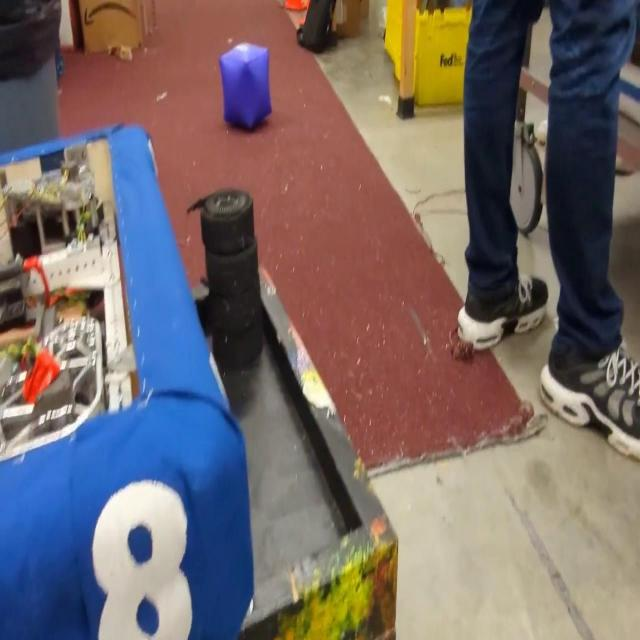frc_cube: (219, 42, 271, 133)
